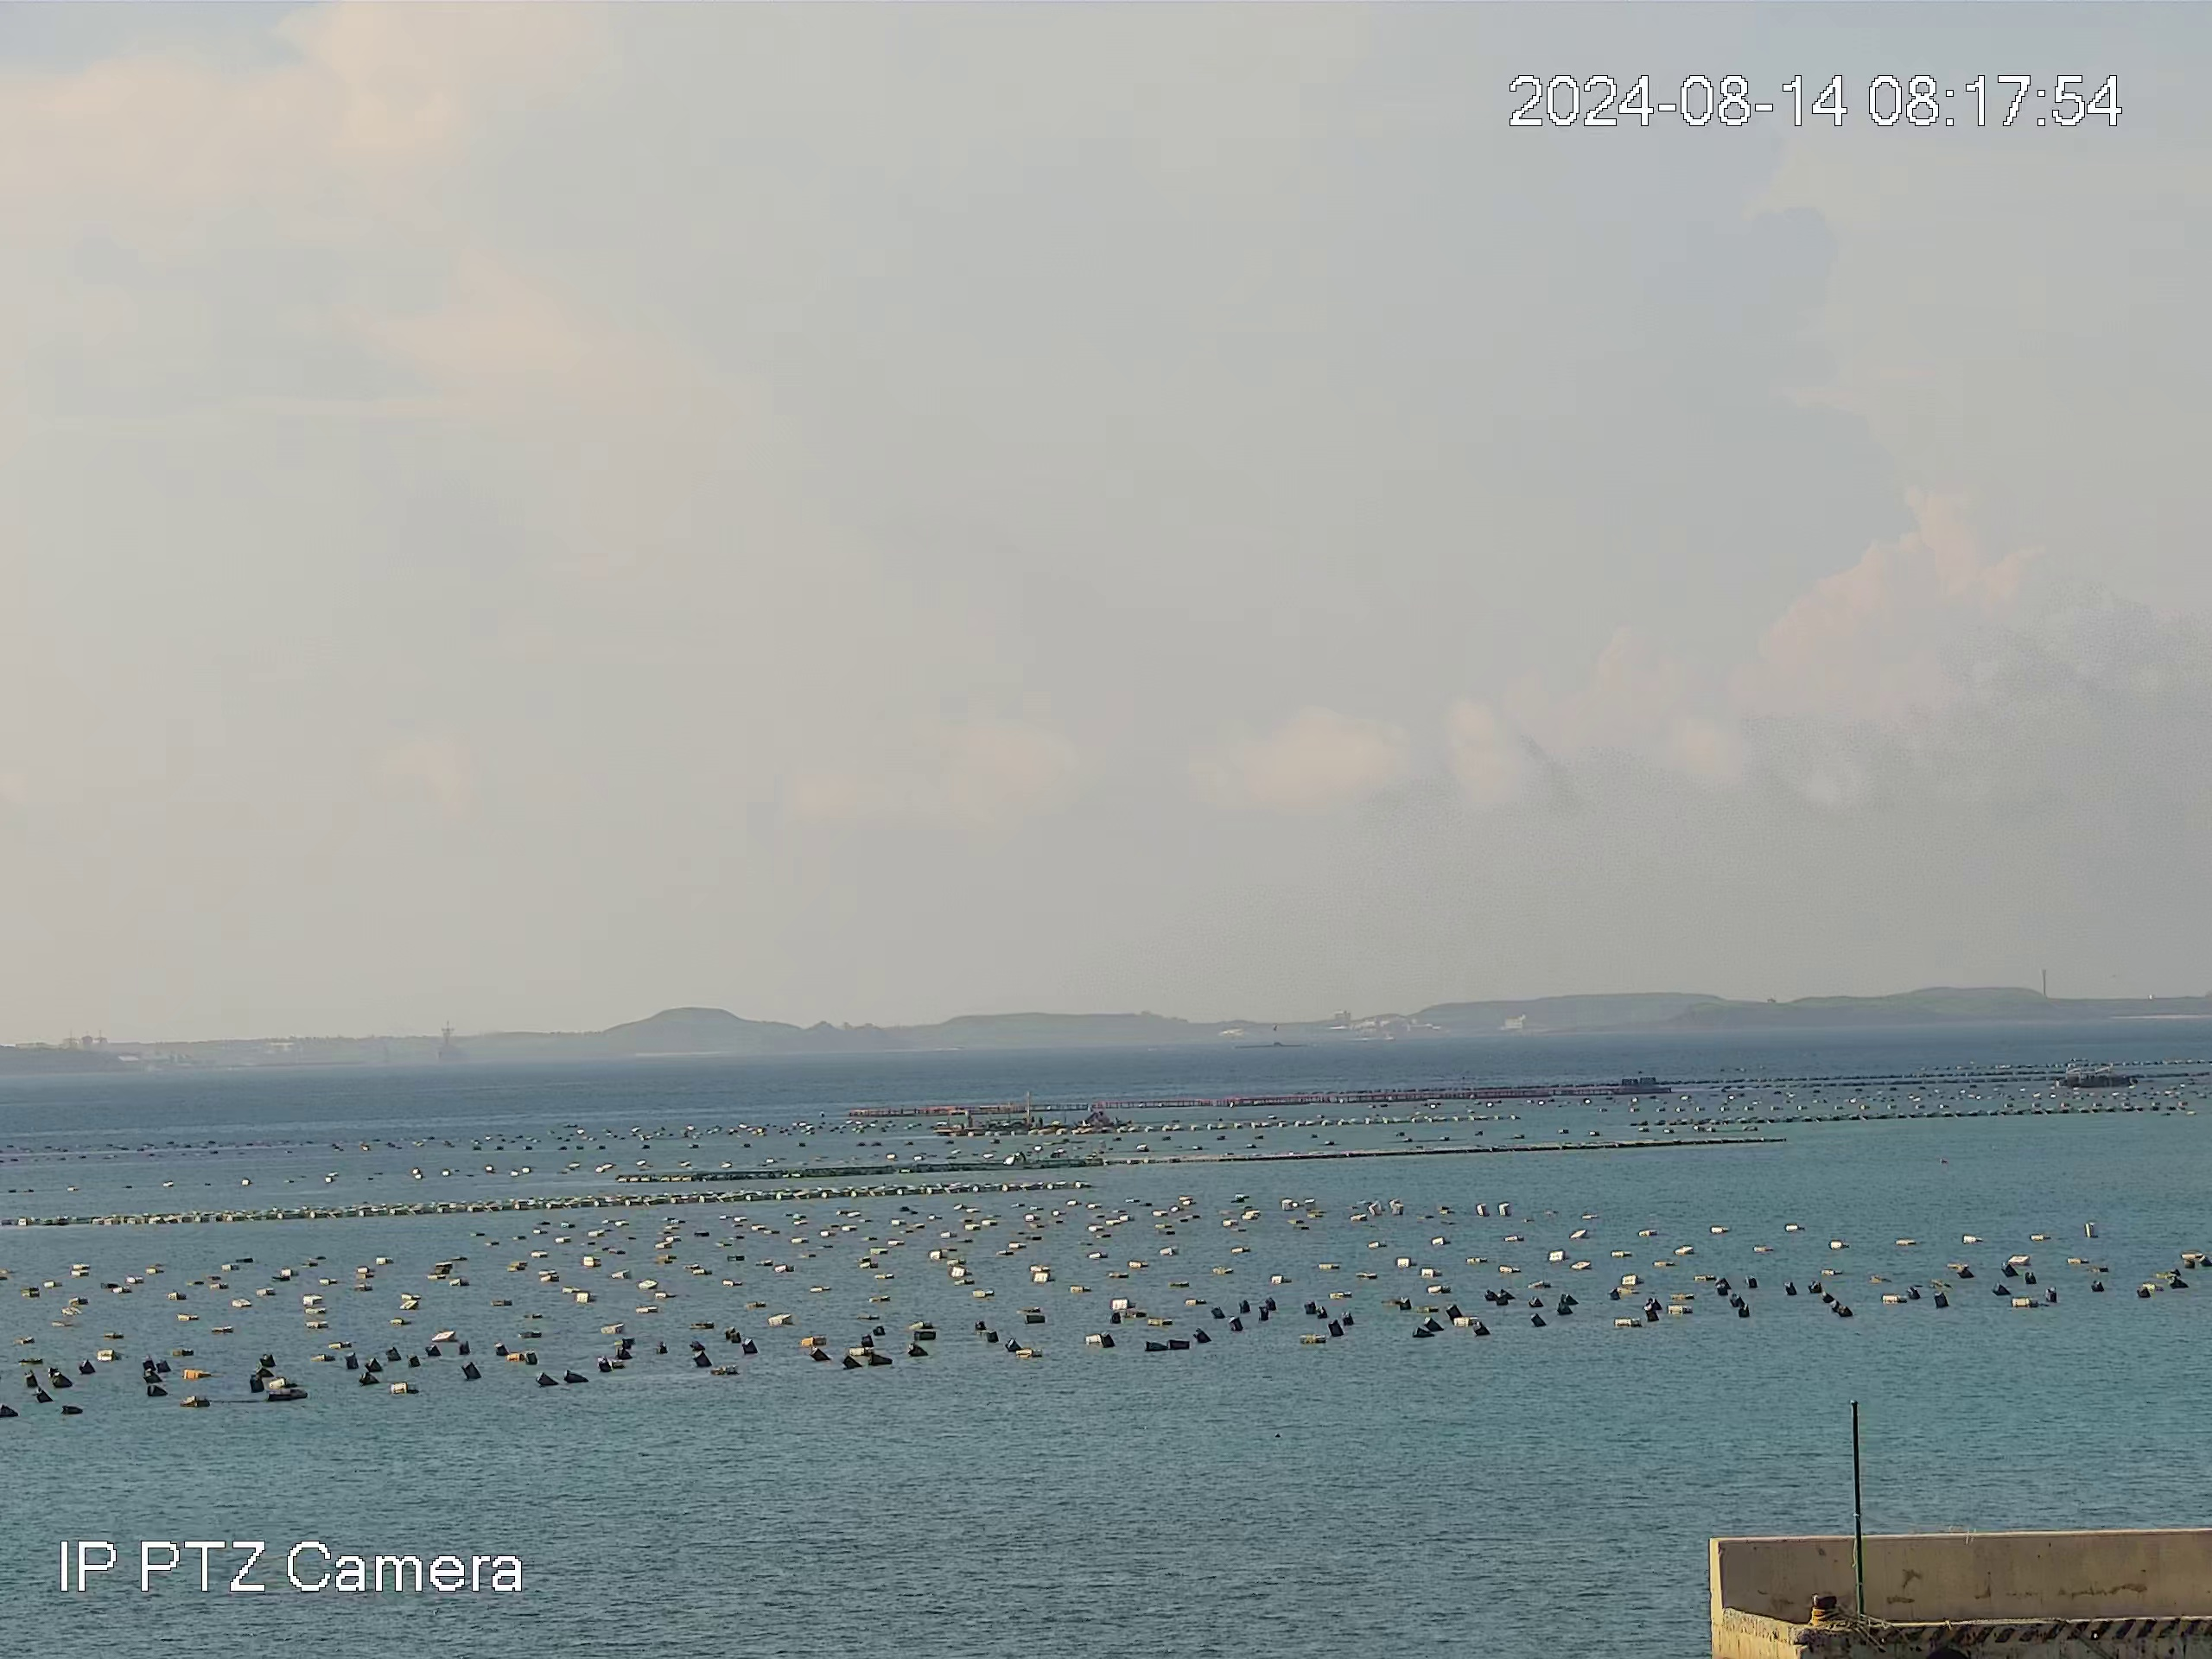boat: (2062, 1060, 2135, 1089)
